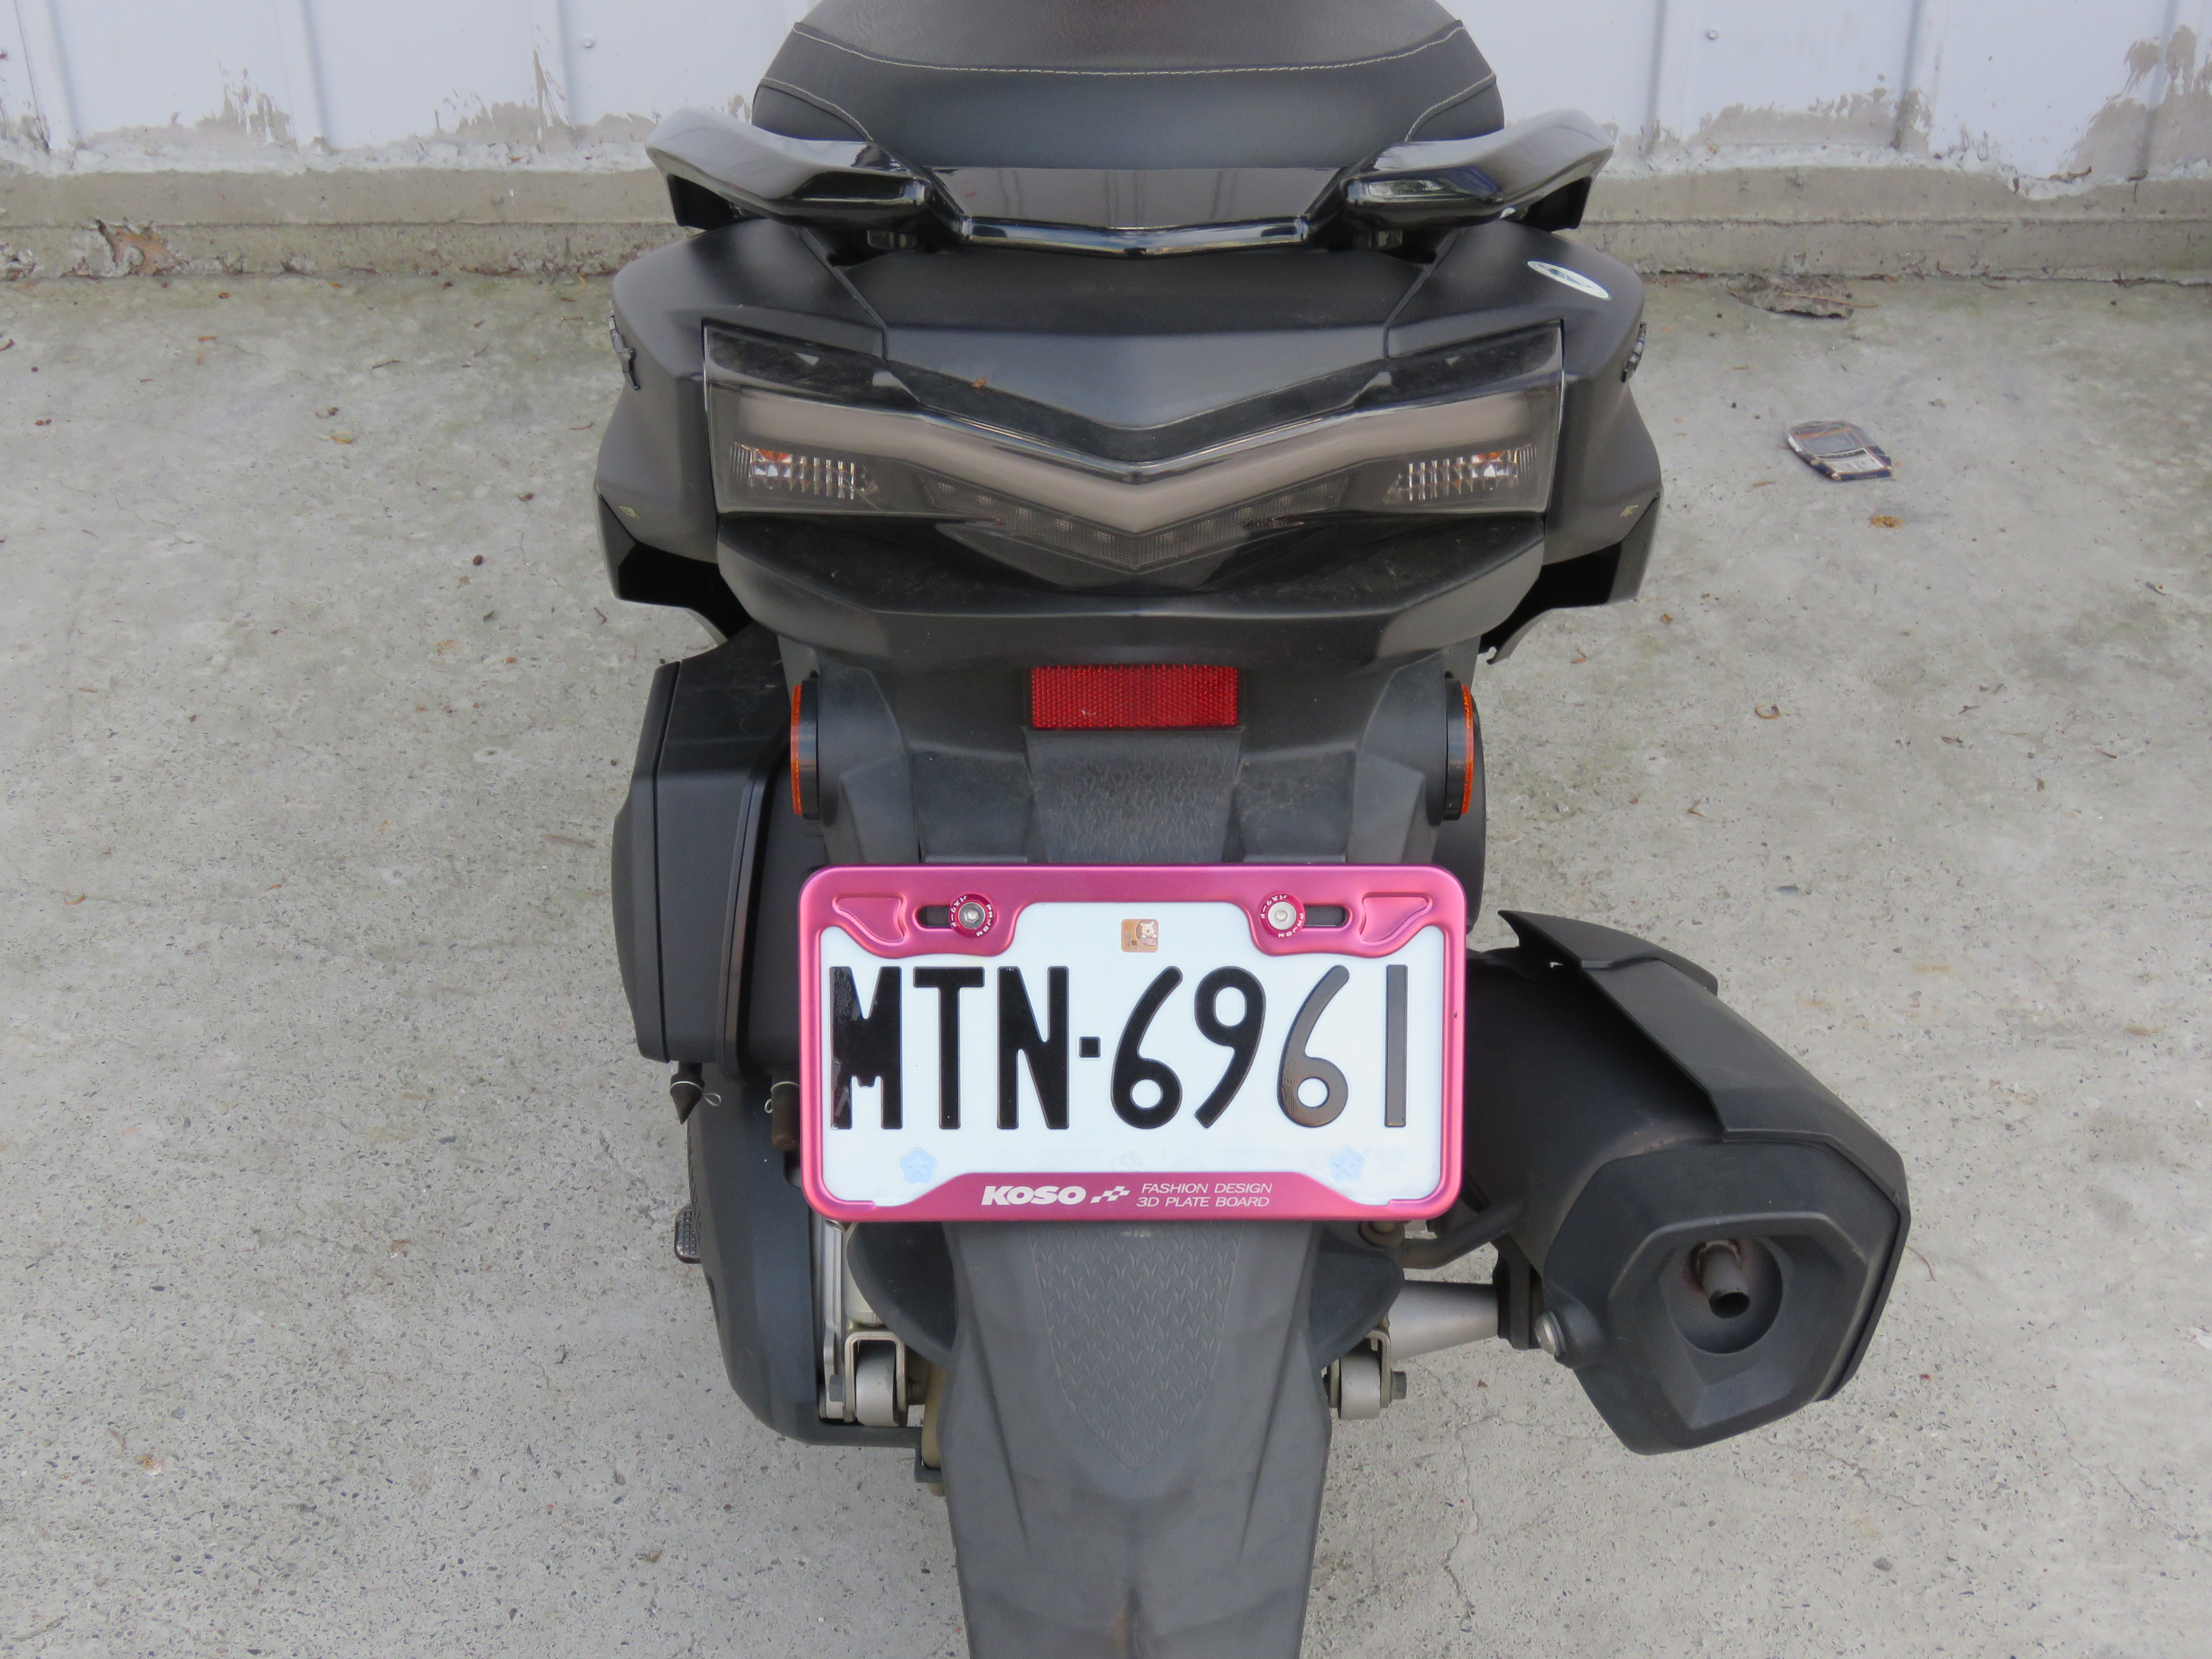car_card: (801, 866, 1449, 1208)
moto: (577, 0, 1679, 1654)
